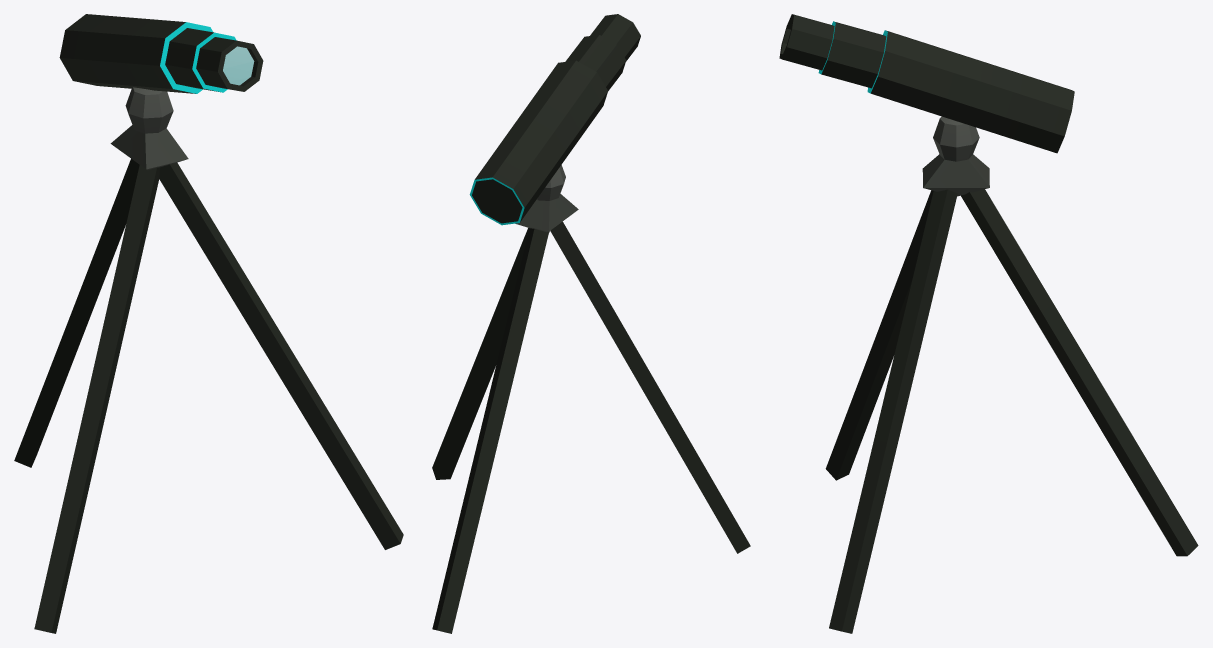
File: Telescope.glb
3 renders of one model, left to right at view 1: azimuth 30°, elevation 25°; view 2: azimuth 150°, elevation 25°; view 3: azimuth 270°, elevation 25°, orthographic. The views are drawn at different scales.
Parts seen in each view (by area): view 1: Telescope; view 2: Telescope; view 3: Telescope.
Part boxes in pixels (x1=…): Telescope: x1=14, y1=14, x2=403, y2=633; Telescope: x1=432, y1=14, x2=750, y2=633; Telescope: x1=779, y1=14, x2=1198, y2=633.
Size of what is drawn, in the model's own units: 1.39 by 2.06 by 1.44.
Materials: 1 (1 with a texture image).
